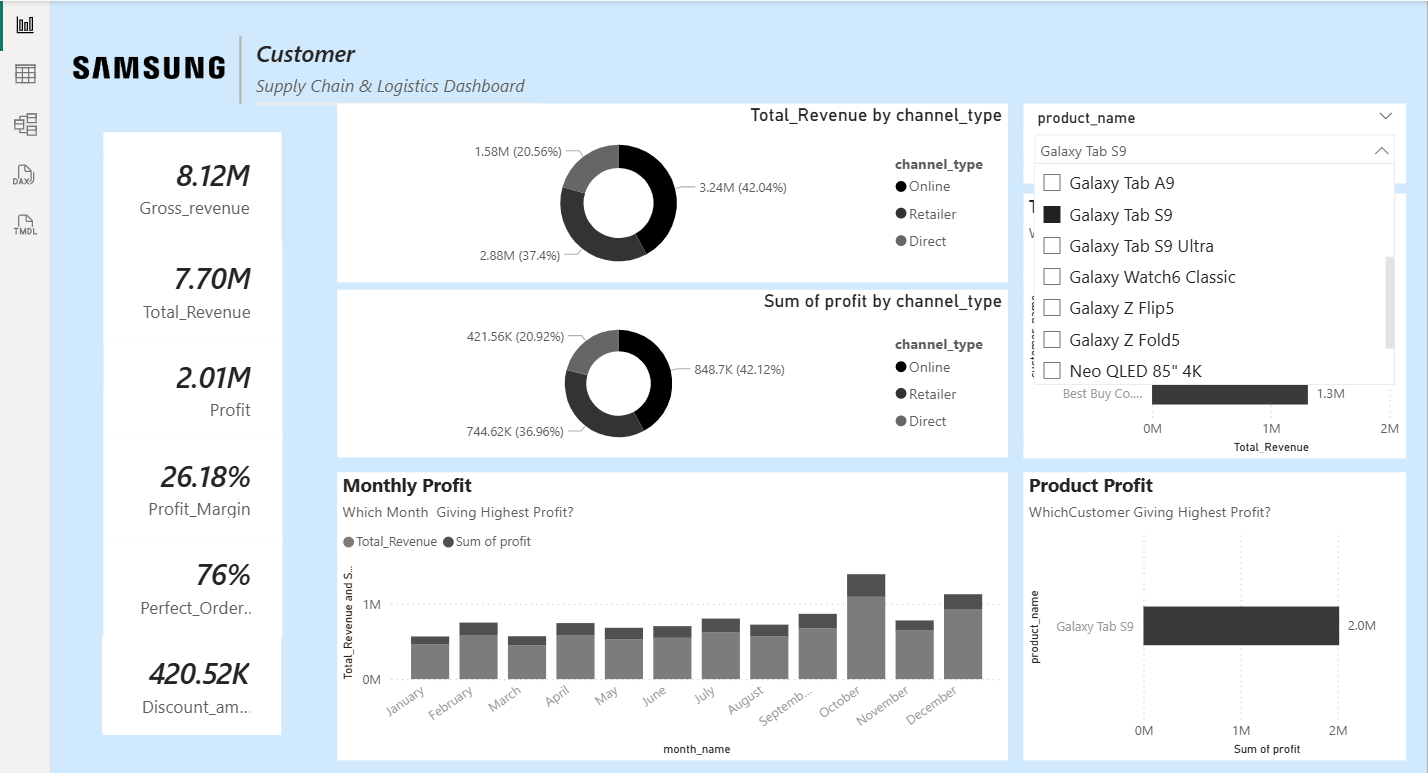

This screenshot's page, from the dashboard's own definition file:
{"tool":"powerbi","page":{"name":"Customer","canvas":[1280,720],"ordinal":5},"visuals":[{"type":"shape","title":"Customer","box":[190.1,33.3,263,63],"z":16000},{"type":"shape","box":[156.4,32.9,38.4,63.1],"z":17000},{"type":"image","box":[9.6,35.7,156.4,50.8],"z":18000},{"type":"cardVisual","fields":{"Data":["Sum(fact_sales.gross_revenue)"]},"box":[49.4,122.2,165.4,101.2],"z":19000},{"type":"cardVisual","fields":{"Data":["MeasureTable.Total_Revenue"]},"box":[48.4,223.8,166.3,91.7],"z":20000},{"type":"cardVisual","fields":{"Data":["MeasureTable.Profit"]},"box":[48.4,315.5,166.3,91.7],"z":21000},{"type":"cardVisual","fields":{"Data":["MeasureTable.Profit_Margin %"]},"box":[48.4,407.2,166.3,91.7],"z":22000},{"type":"cardVisual","fields":{"Data":["MeasureTable.Perfect_Order_%"]},"box":[48.4,498.9,166.3,91.7],"z":23000},{"type":"clusteredBarChart","title":"Total Revenue","fields":{"Category":["dim_customer.customer_name"],"Y":["MeasureTable.Total_Revenue"]},"box":[904.8,178.6,355.9,246.1],"z":36000},{"type":"donutChart","fields":{"Category":["dim_customer.channel_type"],"Y":["MeasureTable.Total_Revenue"]},"box":[266.6,95.3,623.7,166.5],"z":36001},{"type":"donutChart","fields":{"Category":["dim_customer.channel_type"],"Y":["Sum(fact_sales.profit)"]},"box":[266.6,269,623.7,155.6],"z":36002},{"type":"clusteredBarChart","title":"Product  Profit ","fields":{"Category":["dim_product.product_name"],"Y":["Sum(fact_sales.profit)"]},"box":[904.8,437.9,355.9,267.8],"z":36003},{"type":"lineStackedColumnComboChart","title":"Monthly Profit ","fields":{"Category":["dim_date.month_name"],"Y":["MeasureTable.Total_Revenue","Sum(fact_sales.profit)"]},"box":[266.6,437.9,623.7,267.8],"z":36004},{"type":"cardVisual","fields":{"Data":["Sum(fact_sales.discount_amount)"]},"box":[47.7,590.6,166.3,91.7],"z":36005},{"type":"slicer","fields":{"Values":["dim_product.product_name"]},"box":[904.8,95.3,355.9,74.8],"z":36006}]}

Visuals, with their boxes on the page's 1280x720 design canvas (x1, y1, x2, y2). These are canvas units, not pixel positions in the 1428x773 screenshot, which may show the page scaled, cropped or inside an application window:
"Customer" shape: {"x1": 190, "y1": 33, "x2": 453, "y2": 96}
shape: {"x1": 156, "y1": 33, "x2": 195, "y2": 96}
image: {"x1": 10, "y1": 36, "x2": 166, "y2": 86}
cardVisual - Sum(fact_sales.gross_revenue): {"x1": 49, "y1": 122, "x2": 215, "y2": 223}
cardVisual - MeasureTable.Total_Revenue: {"x1": 48, "y1": 224, "x2": 215, "y2": 316}
cardVisual - MeasureTable.Profit: {"x1": 48, "y1": 316, "x2": 215, "y2": 407}
cardVisual - MeasureTable.Profit_Margin %: {"x1": 48, "y1": 407, "x2": 215, "y2": 499}
cardVisual - MeasureTable.Perfect_Order_%: {"x1": 48, "y1": 499, "x2": 215, "y2": 591}
"Total Revenue" clusteredBarChart: {"x1": 905, "y1": 179, "x2": 1261, "y2": 425}
donutChart - dim_customer.channel_type x MeasureTable.Total_Revenue: {"x1": 267, "y1": 95, "x2": 890, "y2": 262}
donutChart - dim_customer.channel_type x Sum(fact_sales.profit): {"x1": 267, "y1": 269, "x2": 890, "y2": 425}
"Product  Profit " clusteredBarChart: {"x1": 905, "y1": 438, "x2": 1261, "y2": 706}
"Monthly Profit " lineStackedColumnComboChart: {"x1": 267, "y1": 438, "x2": 890, "y2": 706}
cardVisual - Sum(fact_sales.discount_amount): {"x1": 48, "y1": 591, "x2": 214, "y2": 682}
slicer - dim_product.product_name: {"x1": 905, "y1": 95, "x2": 1261, "y2": 170}
